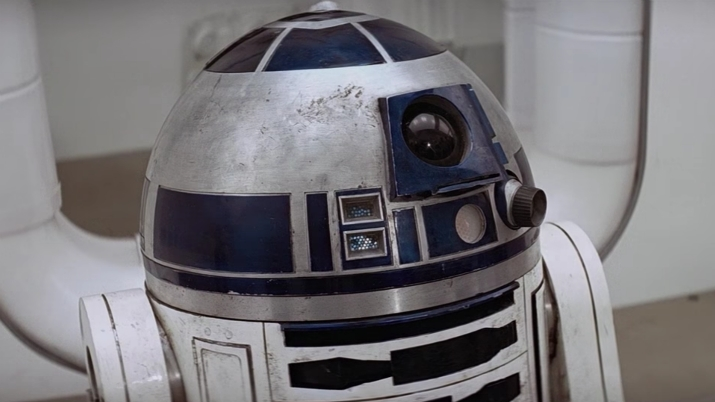r2d2: (78, 2, 626, 402)
